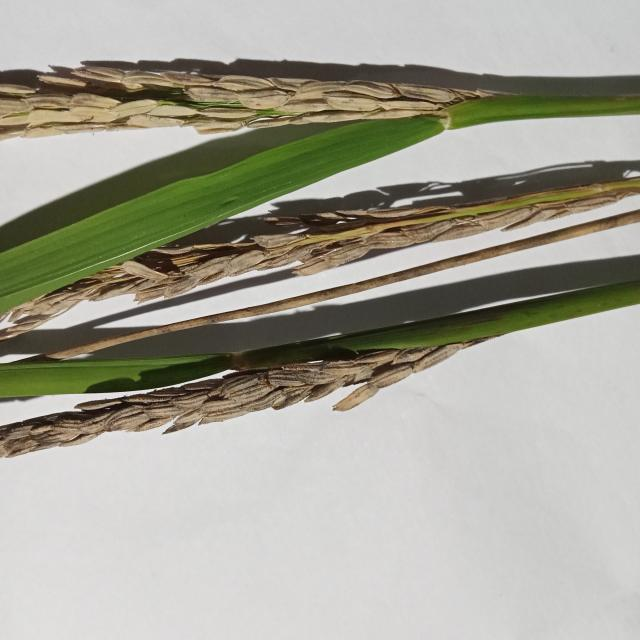Neck_Blast: (0, 174, 638, 325), (0, 350, 463, 457), (0, 58, 473, 132)
